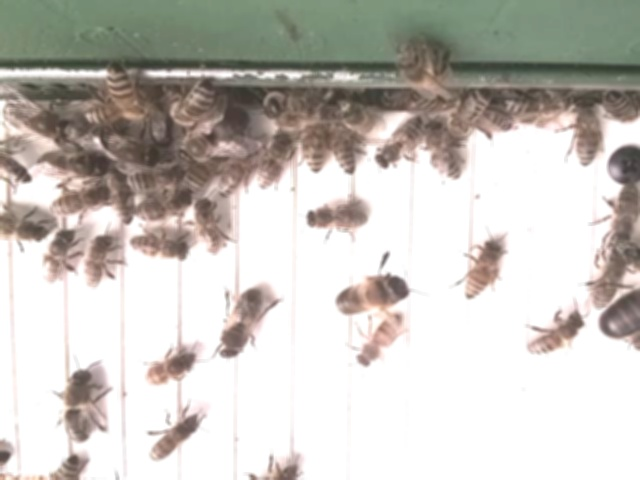Drone: (177, 104, 249, 168), (216, 285, 266, 365), (330, 272, 411, 320), (57, 367, 101, 447), (0, 103, 71, 145), (34, 148, 110, 183)
Worker: (522, 312, 583, 361), (354, 314, 404, 373), (372, 117, 420, 172), (462, 240, 502, 305), (422, 123, 464, 183), (105, 64, 146, 124), (146, 417, 197, 465), (255, 132, 292, 195), (130, 230, 191, 267), (191, 197, 227, 258), (39, 226, 74, 288), (142, 352, 198, 390), (0, 209, 50, 251), (46, 188, 110, 220), (326, 115, 358, 179), (608, 183, 640, 247), (586, 255, 622, 311), (572, 103, 602, 170), (79, 234, 112, 293), (302, 206, 370, 234), (108, 168, 138, 228), (300, 116, 327, 175)
